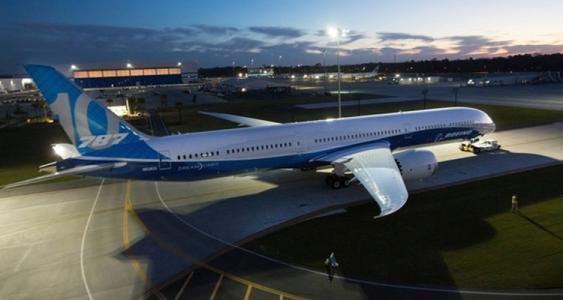airplane: (22, 63, 496, 219)
